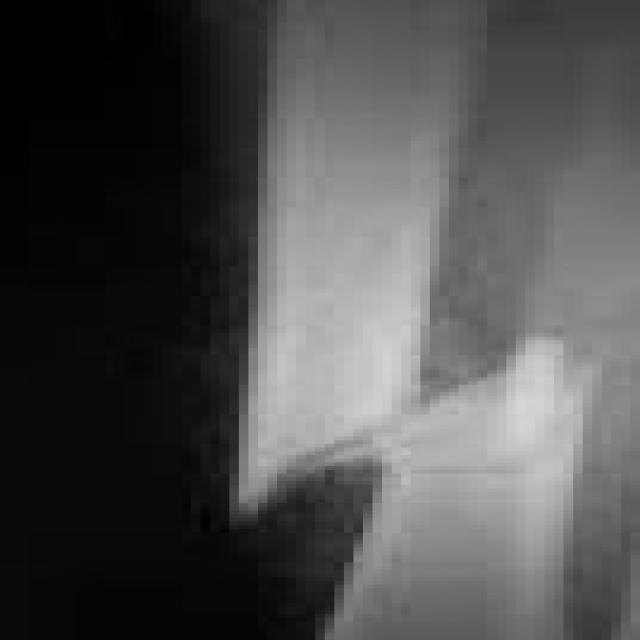Broken: (213, 9, 496, 518), (313, 338, 600, 636)
